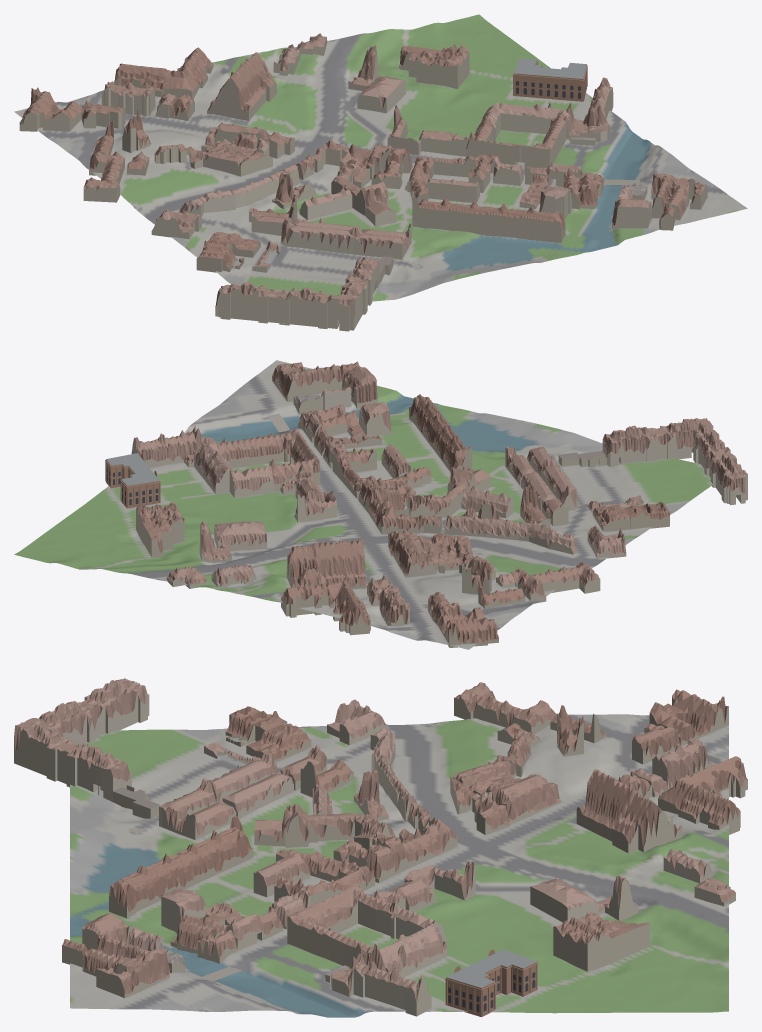
3 renders of one model, top to bottom at view 1: azimuth 30°, elevation 25°; view 2: azimuth 150°, elevation 25°; view 3: azimuth 270°, elevation 25°, orthographic. The views are drawn at different scales.
Visible parts, largest first — view 1: ground, b:way/158932420, b:way/23694373, b:way/127761106, b:way/137975134, b:way/127761112, b:way/23694476, b:way/1204142218, b:way/137983085, b:way/158913937, b:way/166383909, b:way/137975128 (+34 smaller); view 2: ground, b:way/158932420, b:way/137975134, b:way/127761106, b:way/127761112, b:way/23694373, b:way/23694476, b:way/137983085, b:way/1204142218, b:way/137983089, b:way/146626442, b:way/158913937 (+34 smaller); view 3: ground, b:way/158932420, b:way/23694373, b:way/137975134, b:way/127761106, b:way/127761112, b:way/23694476, b:way/1204142218, b:way/137983085, b:way/158913937, b:way/23694402, b:way/137992304 (+39 smaller).
Part boxes in pixels (left/top/right/bottom): ground: left=14, top=14, right=747, bottom=323; b:way/158932420: left=215, top=257, right=379, bottom=331; b:way/23694373: left=412, top=197, right=565, bottom=242; b:way/127761106: left=207, top=52, right=276, bottom=120; b:way/137975134: left=466, top=113, right=568, bottom=169; b:way/127761112: left=113, top=47, right=213, bottom=97; b:way/23694476: left=512, top=58, right=587, bottom=101; b:way/1204142218: left=399, top=44, right=469, bottom=89; b:way/137983085: left=331, top=159, right=396, bottom=226; b:way/158913937: left=651, top=173, right=707, bottom=220; b:way/166383909: left=19, top=87, right=81, bottom=131; b:way/137975128: left=387, top=105, right=469, bottom=156; ground: left=14, top=360, right=712, bottom=649; b:way/158932420: left=602, top=418, right=747, bottom=505; b:way/137975134: left=216, top=428, right=320, bottom=491; b:way/127761106: left=286, top=539, right=366, bottom=588; b:way/127761112: left=281, top=581, right=370, bottom=635; b:way/23694373: left=409, top=394, right=472, bottom=472; b:way/23694476: left=105, top=453, right=160, bottom=508; b:way/137983085: left=407, top=465, right=491, bottom=517; b:way/1204142218: left=136, top=502, right=184, bottom=557; b:way/137983089: left=364, top=481, right=424, bottom=534; b:way/146626442: left=517, top=562, right=600, bottom=603; b:way/158913937: left=272, top=362, right=341, bottom=401; ground: left=70, top=714, right=728, bottom=1017; b:way/158932420: left=14, top=678, right=149, bottom=801; b:way/23694373: left=109, top=816, right=253, bottom=918; b:way/137975134: left=287, top=884, right=398, bottom=968; b:way/127761106: left=576, top=769, right=682, bottom=853; b:way/127761112: left=658, top=756, right=747, bottom=834; b:way/23694476: left=445, top=949, right=538, bottom=1016; b:way/1204142218: left=553, top=911, right=649, bottom=971; b:way/137983085: left=254, top=804, right=394, bottom=849; b:way/158913937: left=82, top=934, right=169, bottom=998; b:way/23694402: left=331, top=943, right=431, bottom=1016; b:way/137992304: left=159, top=778, right=236, bottom=840.
Bounding box in the file's own units: 276 × 28.54 × 278.
